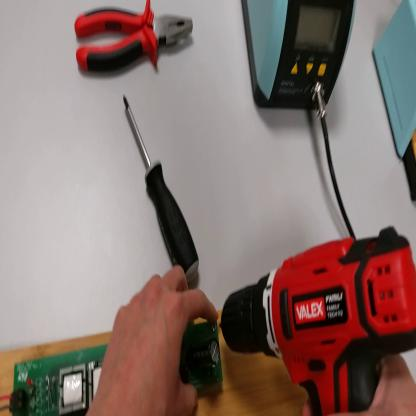electric screwdriver: (223, 226, 416, 416)
hand: (87, 268, 223, 413), (303, 353, 416, 414)
high voltage board: (6, 324, 223, 415)
pliers: (74, 2, 197, 80)
screwdriver-: (121, 93, 203, 283)
welder base: (370, 1, 415, 204)
welder station: (241, 2, 358, 110)
working area: (1, 311, 310, 414)
